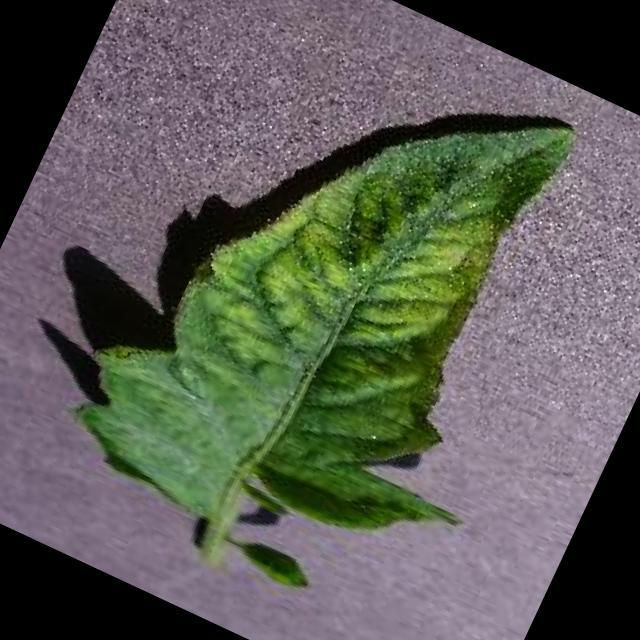Tomato mosaic virus leaf: (51, 0, 628, 613)
